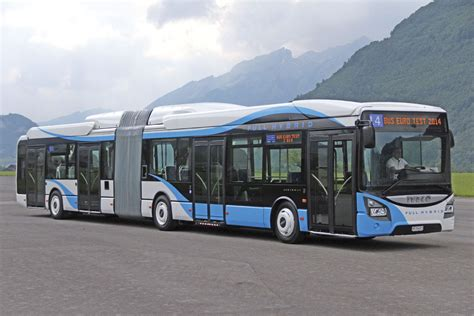bus: (17, 101, 454, 245)
